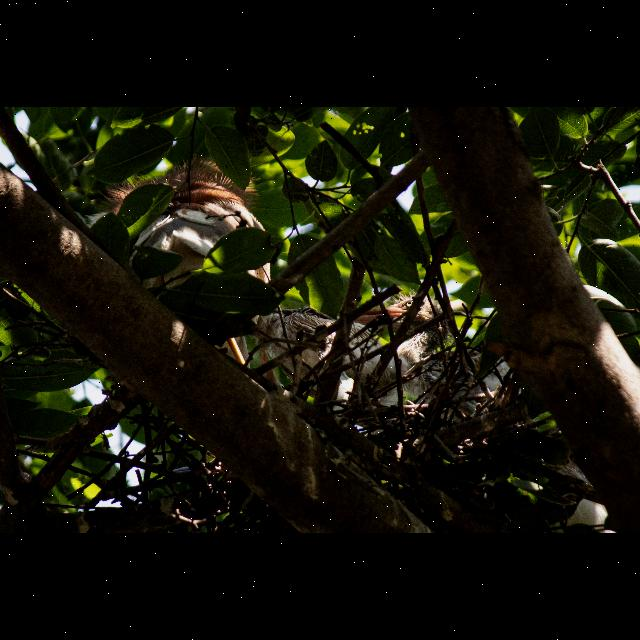heron: (238, 288, 502, 429)
